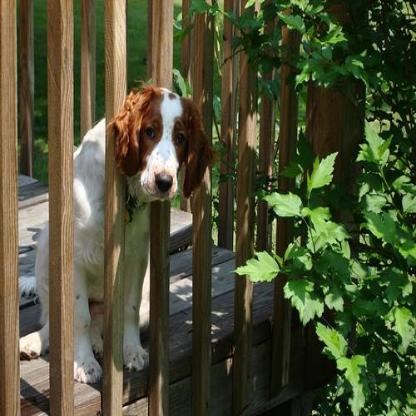Welsh_springer_spaniel: (18, 80, 214, 383)
